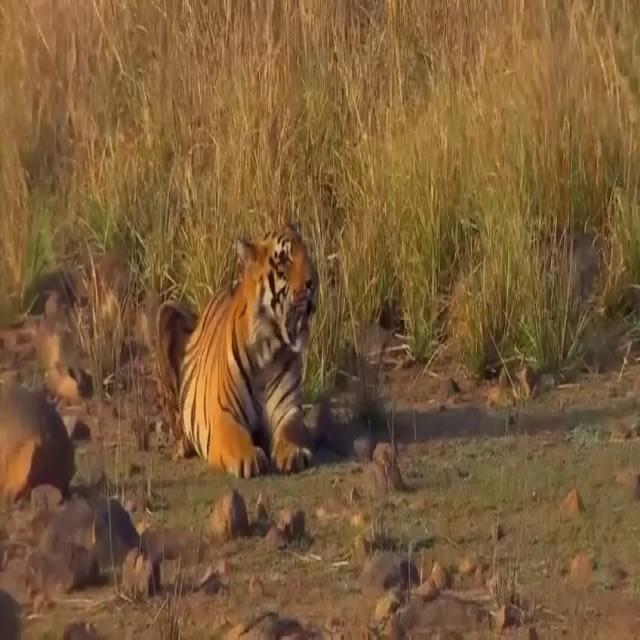tiger: (154, 224, 320, 478)
